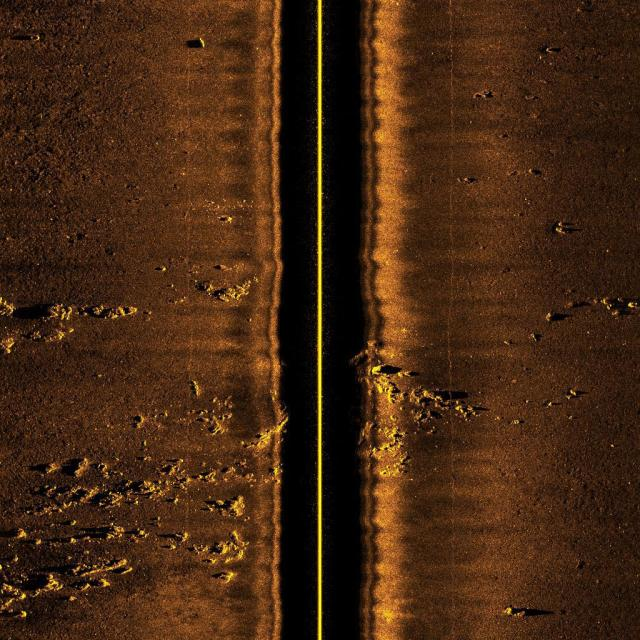mine: (184, 36, 207, 52), (112, 565, 135, 576)
